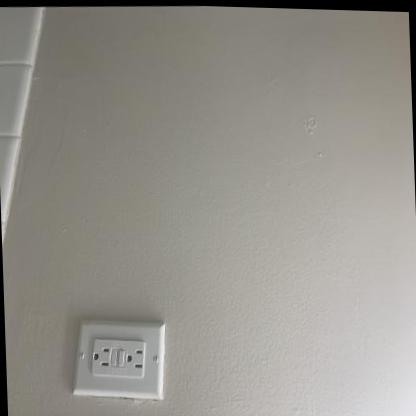OUTLET: (74, 316, 165, 402)
